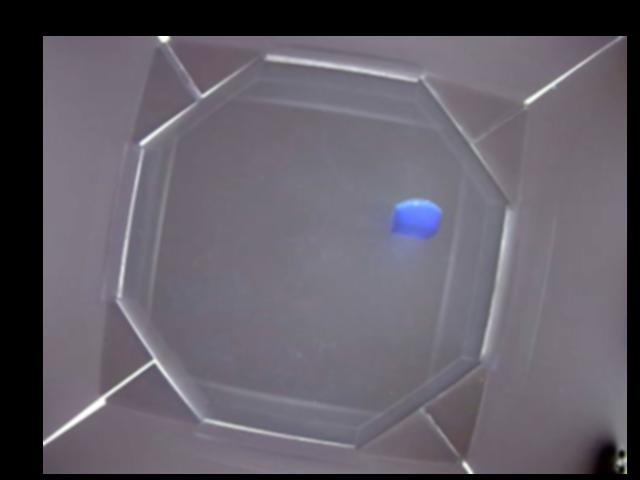Potato: (391, 197, 440, 239)
